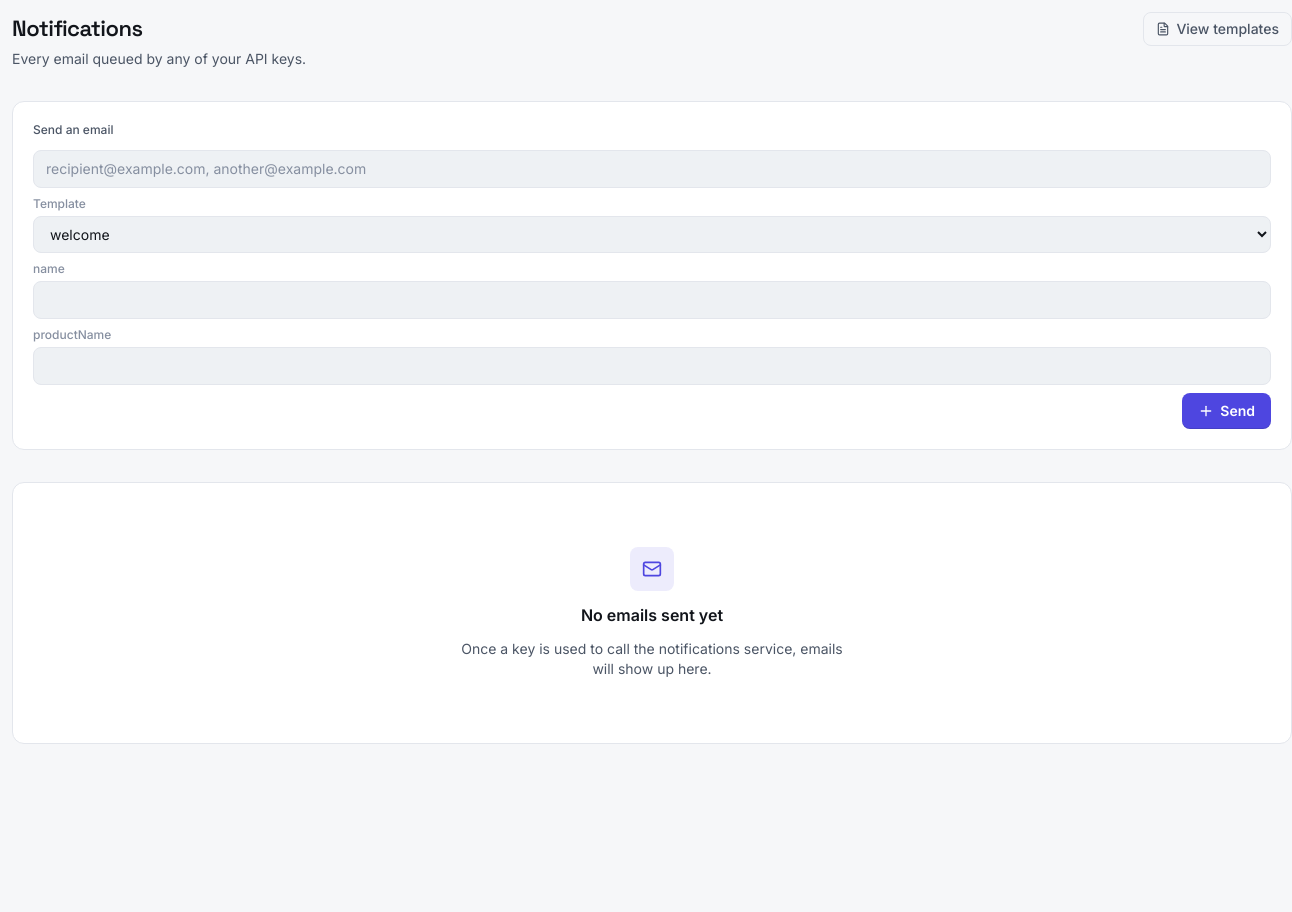
it: NotificationsPage › sends a custom email, clears the form, and refreshes the list on success
Select "Custom" in the dropdown labelled "Template": point(652, 234) [33,216,1271,253]
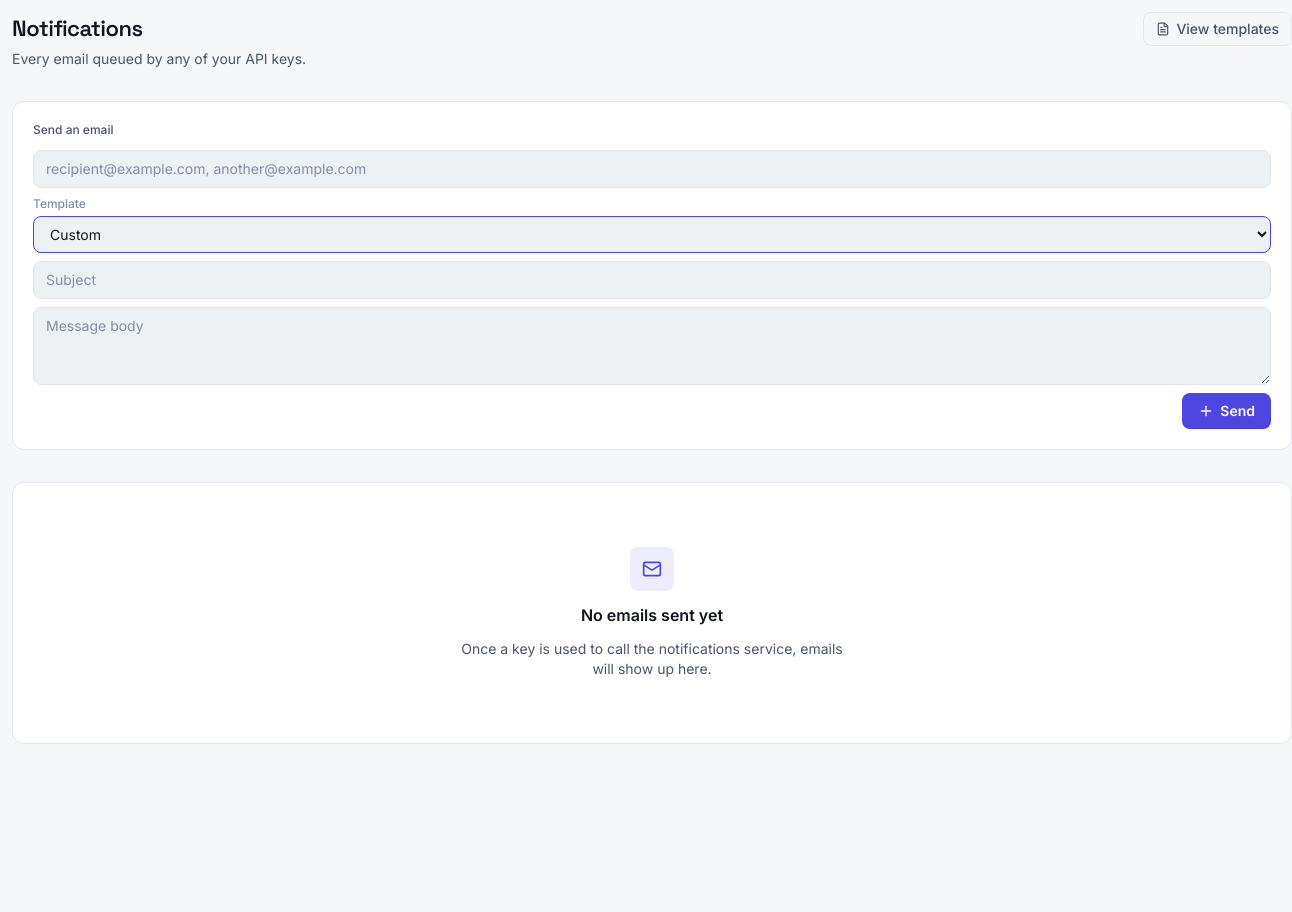
In the field with placeholder "recipient@example.com, another@example.com": point(652, 169) [33,150,1271,188], type "recipient@example.com"
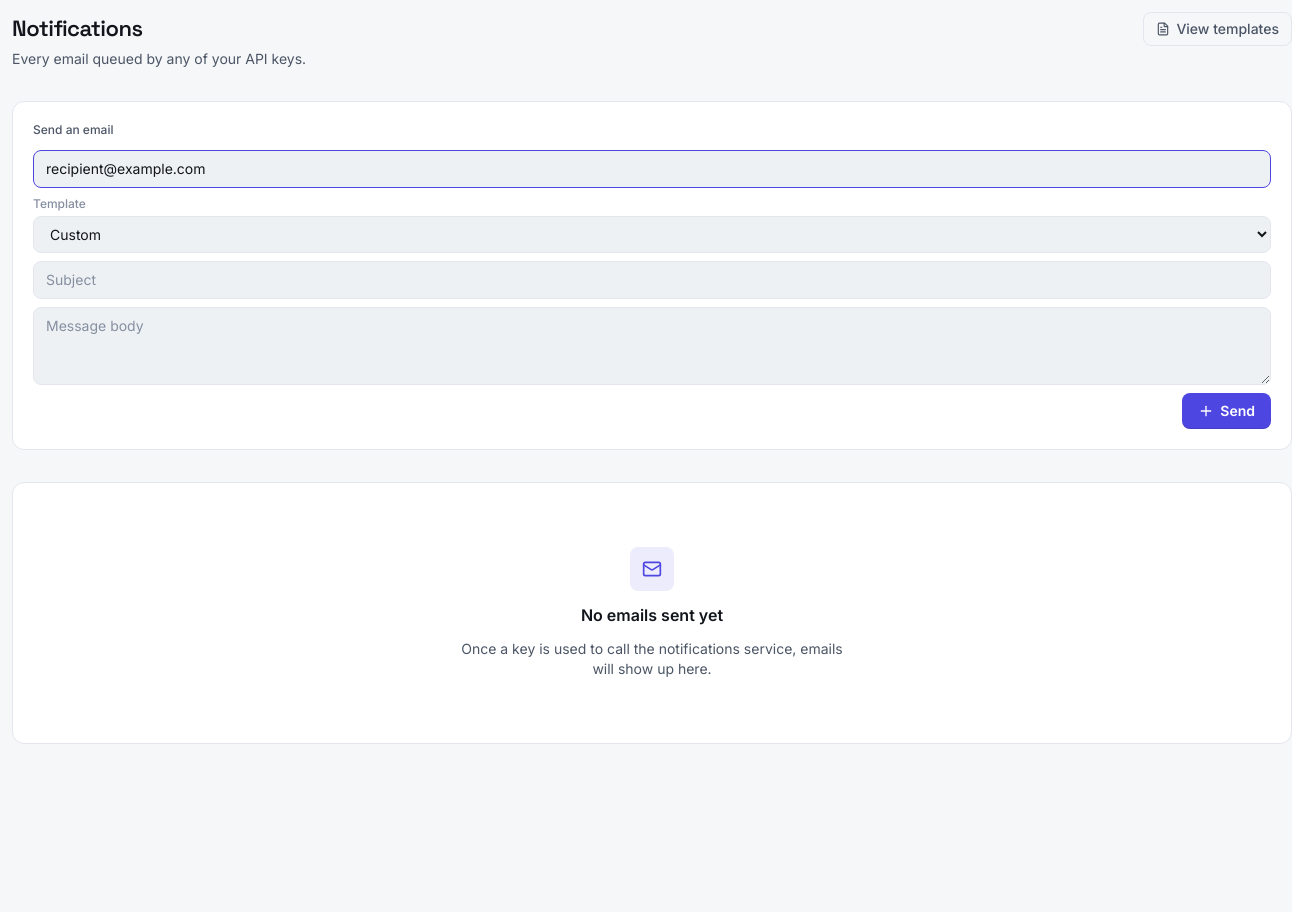
In the field with placeholder "Subject": point(652, 280) [33,261,1271,299], type "Welcome"
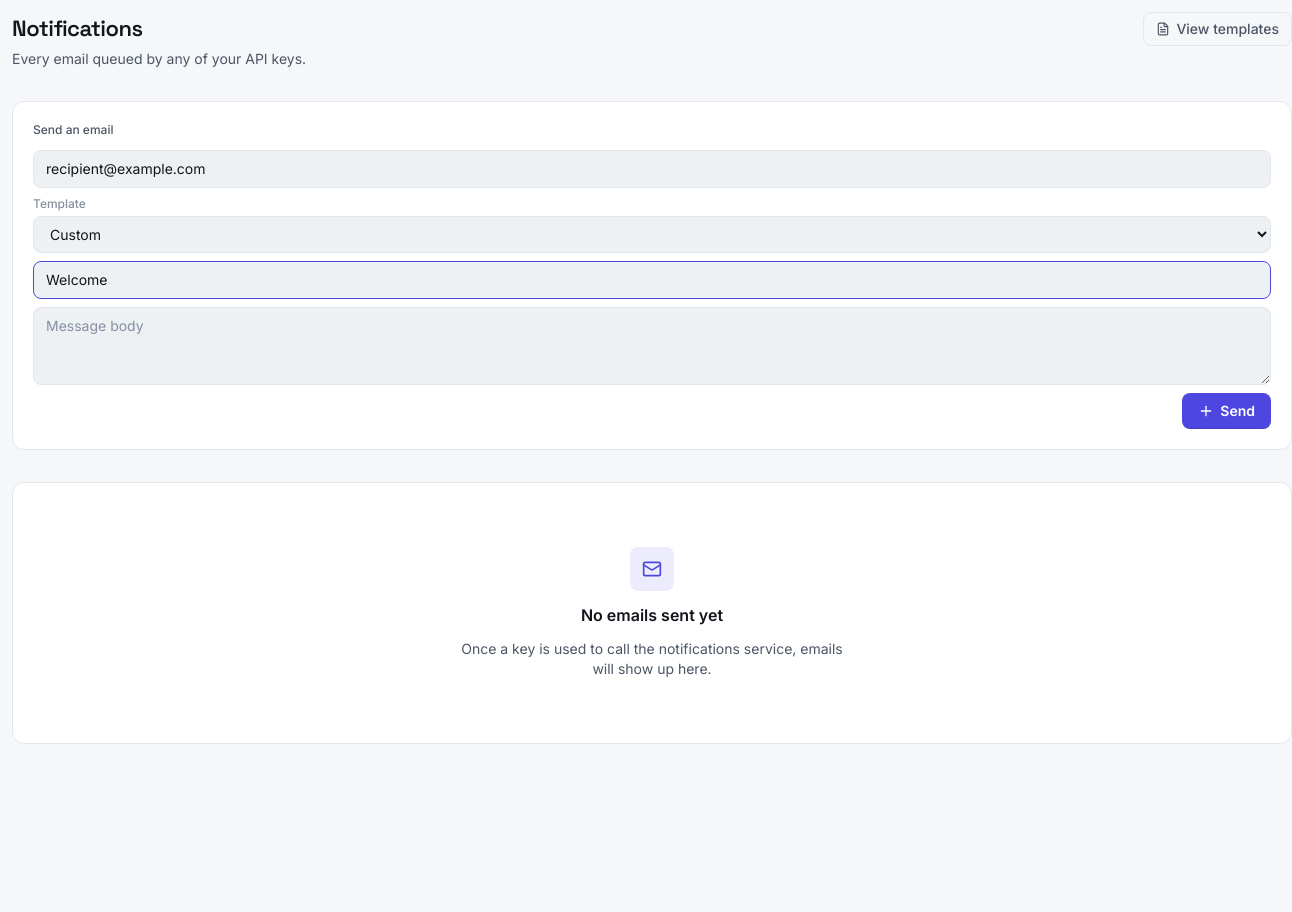
In the text box with placeholder "Message body": point(652, 346) [33,307,1271,385], type "Hello there"
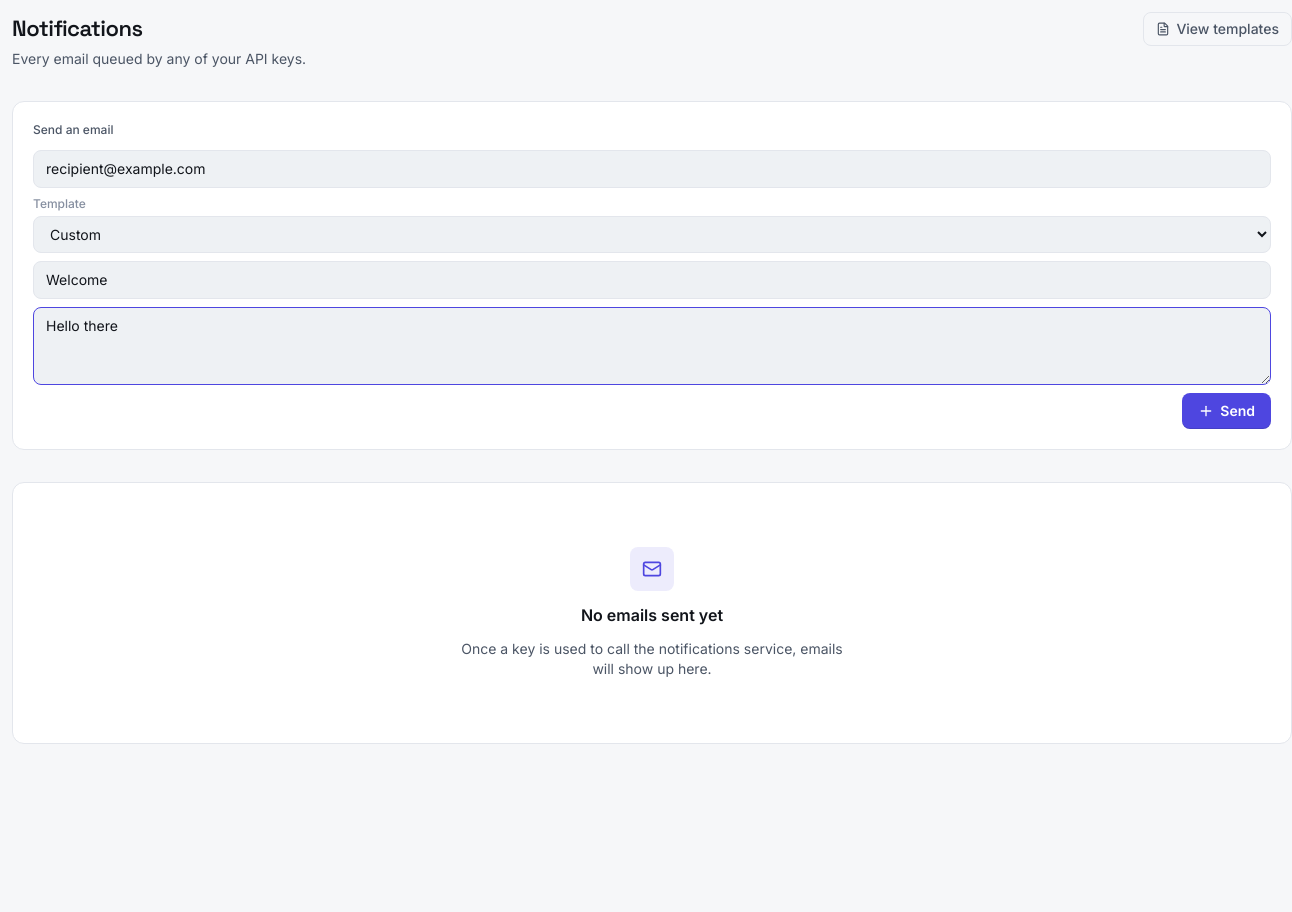
Click the button "Send": point(1227, 411) [1182,393,1271,429]
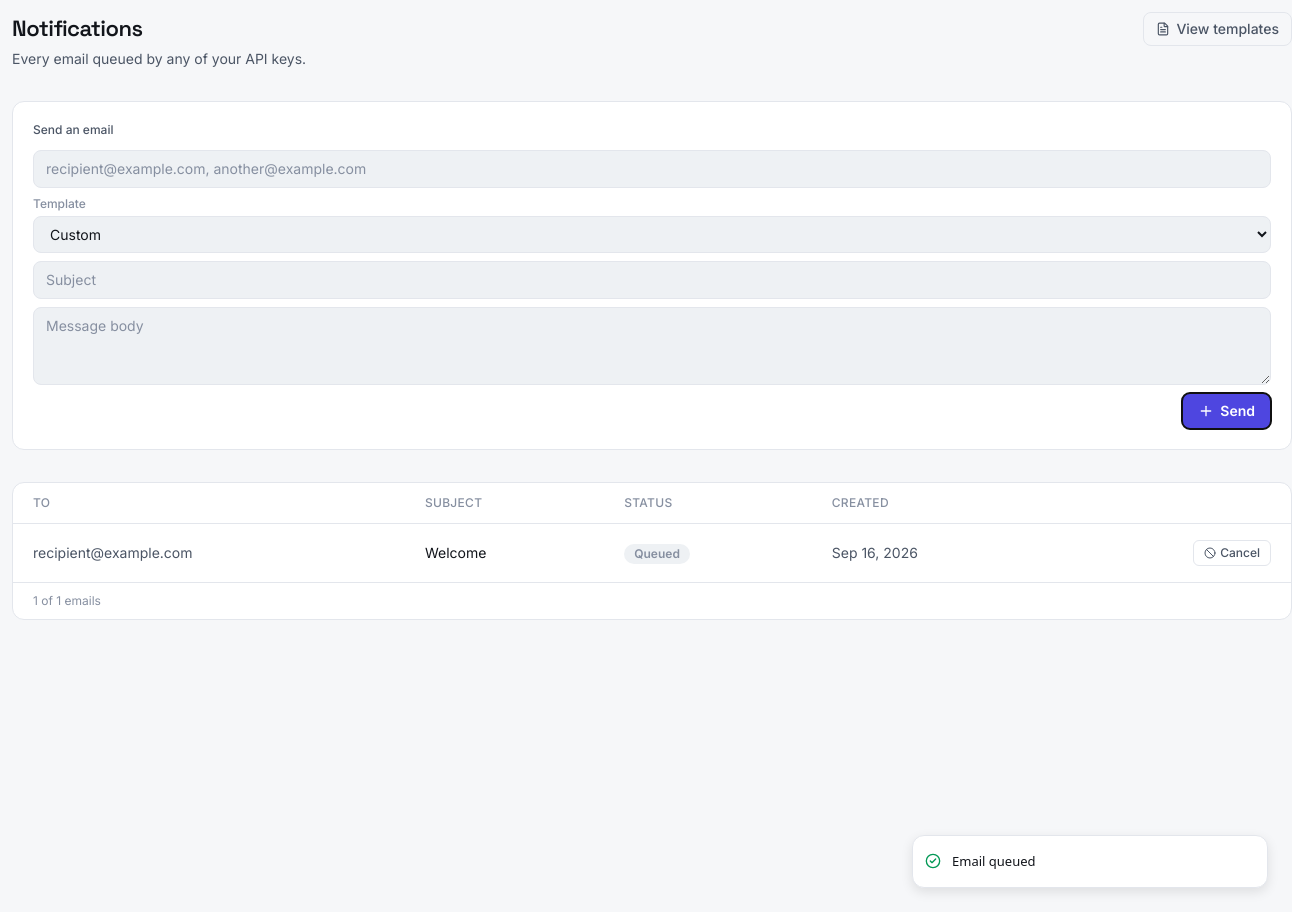
Check: the field with placeholder "recipient@example.com, another@example.com" is empty, box [33,150,1271,188]
Check: the text "Welcome" is shown, box [405,524,604,582]
